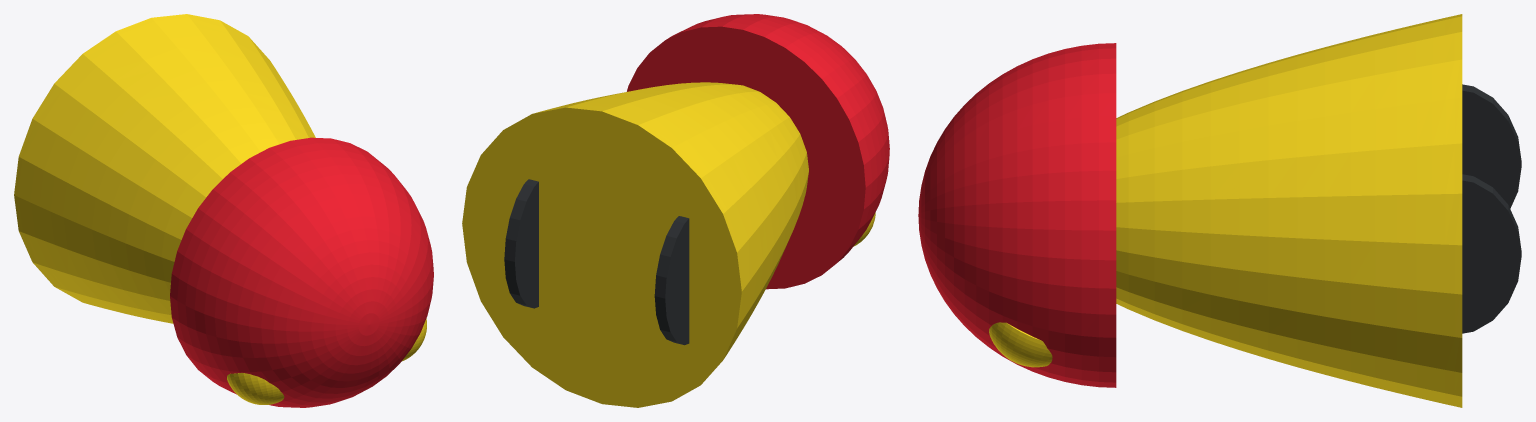
Rendered from tinker.obj.
3 renders of one model, left to right at view 1: azimuth 30°, elevation 25°; view 2: azimuth 150°, elevation 25°; view 3: azimuth 270°, elevation 25°, orthographic. The views are drawn at different scales.
Visible parts, largest first — view 1: group_0_16768282, group_0_15277357; view 2: group_0_16768282, group_0_15277357, group_0_2829873; view 3: group_0_16768282, group_0_15277357, group_0_2829873.
Part boxes in pixels (x1,y1,x2,y2): group_0_16768282: (14, 14, 426, 404); group_0_15277357: (170, 137, 433, 407); group_0_16768282: (462, 82, 875, 407); group_0_15277357: (627, 14, 889, 289); group_0_2829873: (504, 179, 689, 345); group_0_16768282: (989, 14, 1462, 407); group_0_15277357: (918, 43, 1116, 387); group_0_2829873: (1462, 84, 1521, 333).
Size of the model in its own units: 8 by 8 by 12.2.
